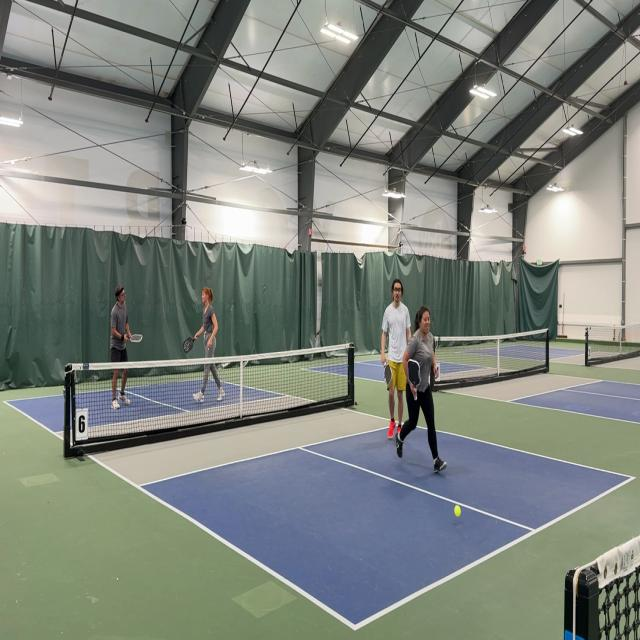ball: (453, 504, 462, 518)
